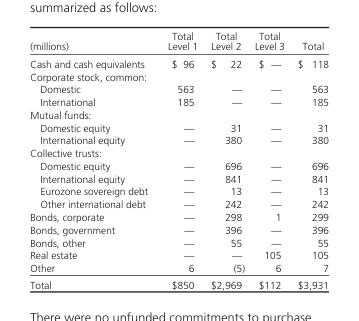table: (29, 29, 328, 290)
table column: (29, 29, 157, 290), (157, 29, 203, 290), (203, 29, 248, 290), (248, 29, 290, 290), (290, 29, 328, 290)
table column header: (29, 29, 328, 54)
table projected row header: (29, 69, 328, 82), (29, 146, 328, 159), (29, 108, 328, 120)
table row: (29, 29, 328, 54), (29, 54, 328, 69), (29, 261, 328, 276), (29, 276, 328, 290), (29, 69, 328, 82), (29, 82, 328, 95), (29, 95, 328, 108), (29, 120, 328, 133), (29, 133, 328, 146), (29, 146, 328, 159), (29, 171, 328, 184), (29, 184, 328, 197), (29, 197, 328, 210), (29, 210, 328, 223), (29, 235, 328, 248), (29, 248, 328, 261), (29, 108, 328, 120), (29, 159, 328, 171), (29, 223, 328, 235)
